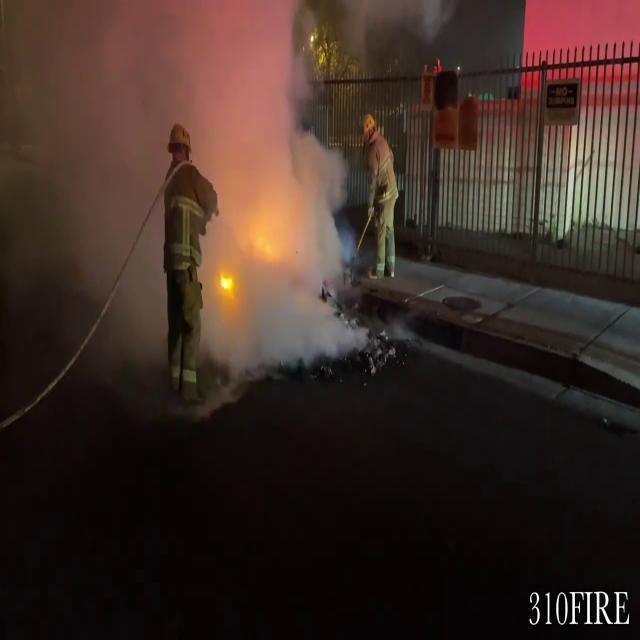Smoke: (0, 1, 354, 392)
